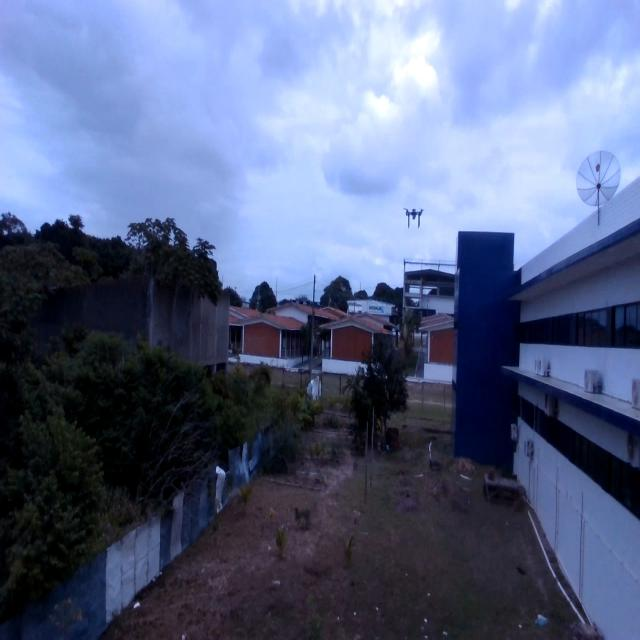-uav-: (399, 194, 429, 242)
